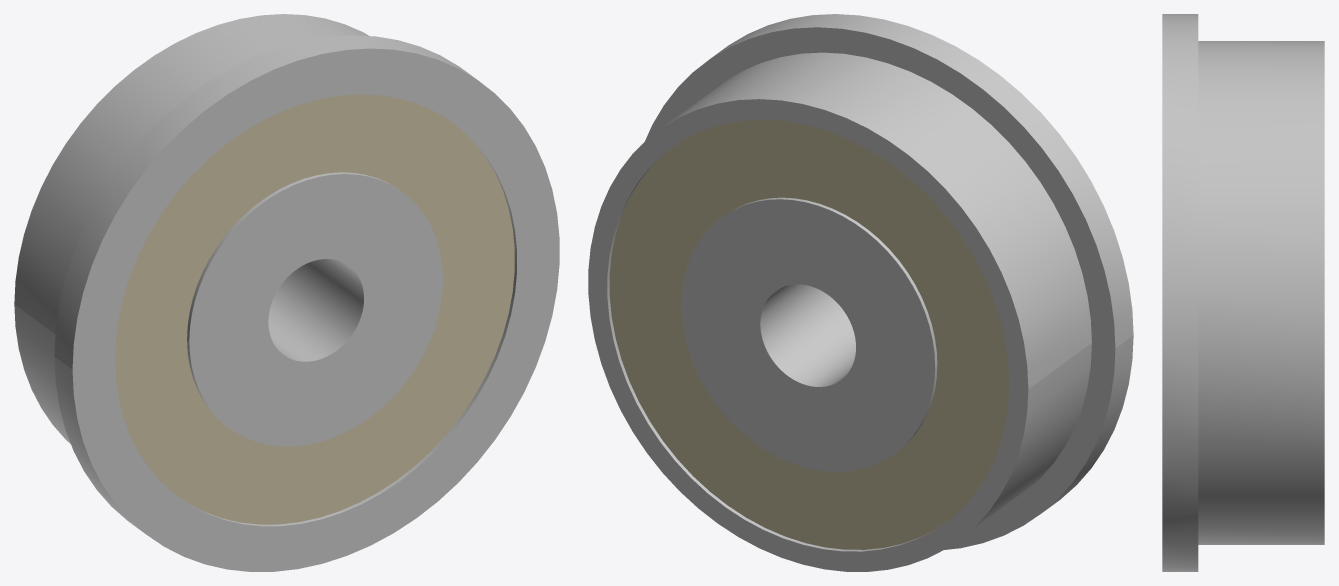
Rendered from .flanged_radial_bearing.step.glb.
The picture shows the model from 3 angles, left to right: view 1: azimuth 30°, elevation 25°; view 2: azimuth 150°, elevation 25°; view 3: azimuth 270°, elevation 25°; orthographic projection.
Parts seen in each view (by area): view 1: o1; view 2: o1; view 3: o1.
Part boxes in pixels (box(x1,y1,x2,y2)): o1: box(14, 14, 559, 571); o1: box(588, 14, 1133, 571); o1: box(1162, 14, 1324, 571).
Size of the model in its own units: 0.0246 by 0.0246 by 0.00714.
